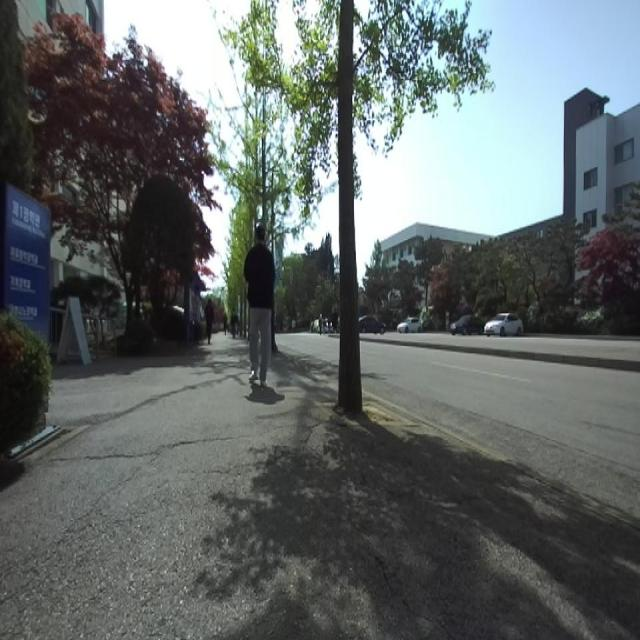sidewalk: (0, 335, 640, 638)
